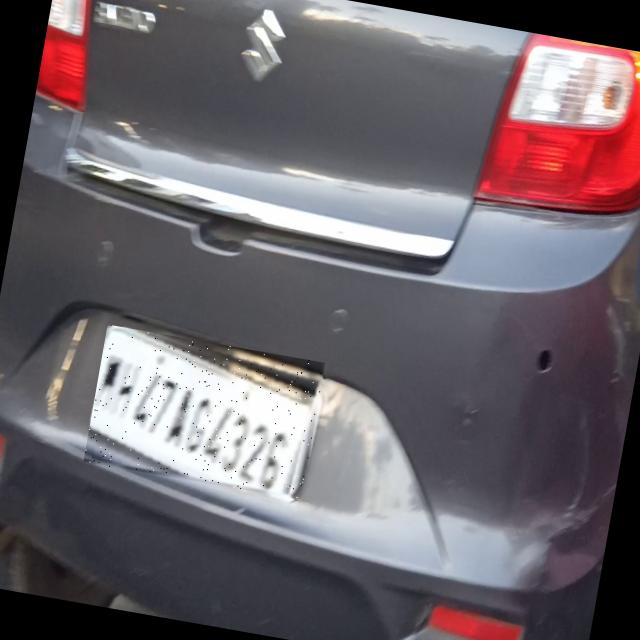Plate: (84, 326, 327, 502)
